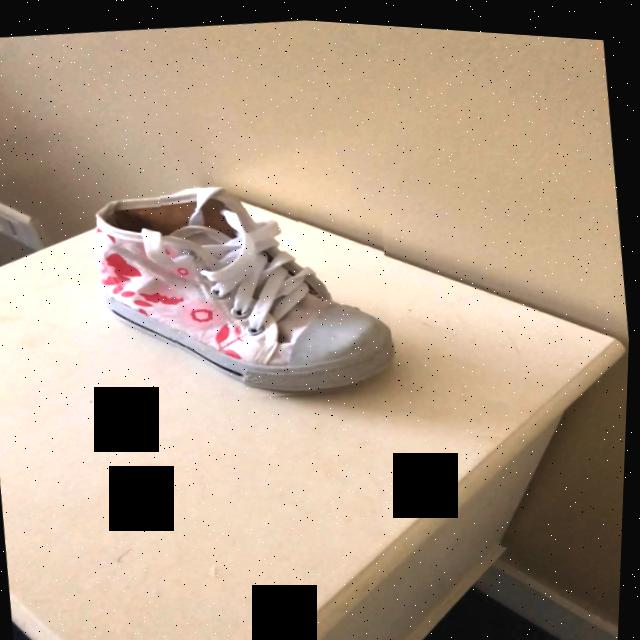shoe: (98, 184, 396, 390)
